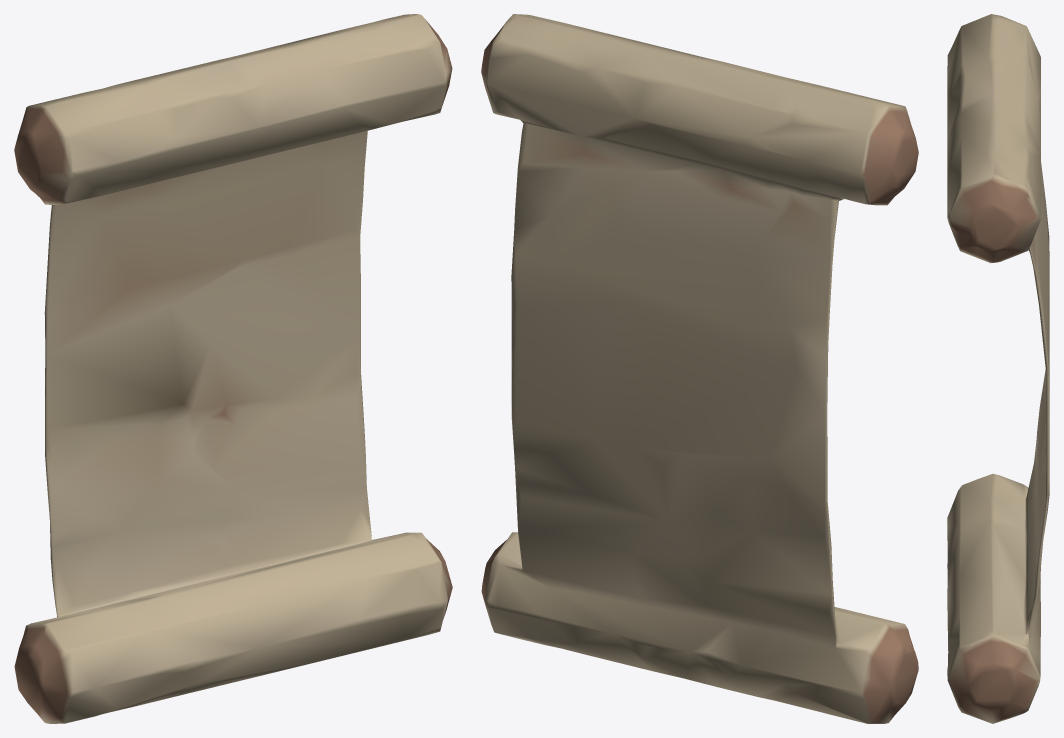
The model's file is gen3d-paper-scroll-lod1.glb.
The picture shows the model from 3 angles, left to right: view 1: azimuth 30°, elevation 25°; view 2: azimuth 150°, elevation 25°; view 3: azimuth 270°, elevation 25°; orthographic projection. The views are drawn at different scales.
Visible parts, largest first — view 1: part_0; view 2: part_0; view 3: part_0.
Boxes of the visible parts, left/top/right/bottom form: part_0: left=14, top=14, right=452, bottom=723; part_0: left=481, top=14, right=918, bottom=723; part_0: left=947, top=14, right=1049, bottom=723.
Bounding box in the file's own units: 0.6988 × 0.9999 × 0.1693.
